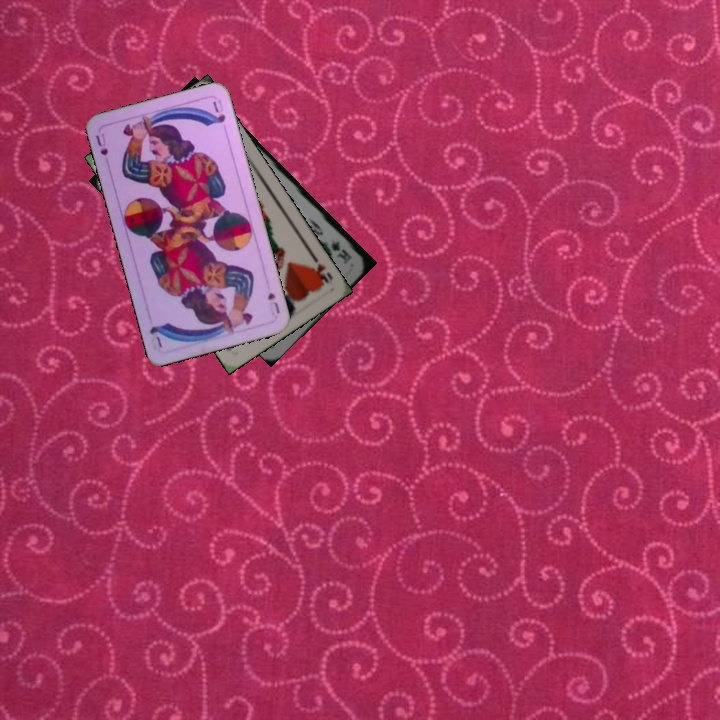GK: (327, 235, 354, 264)
HO: (306, 250, 335, 287)
SU: (91, 129, 111, 158), (264, 287, 282, 318)
